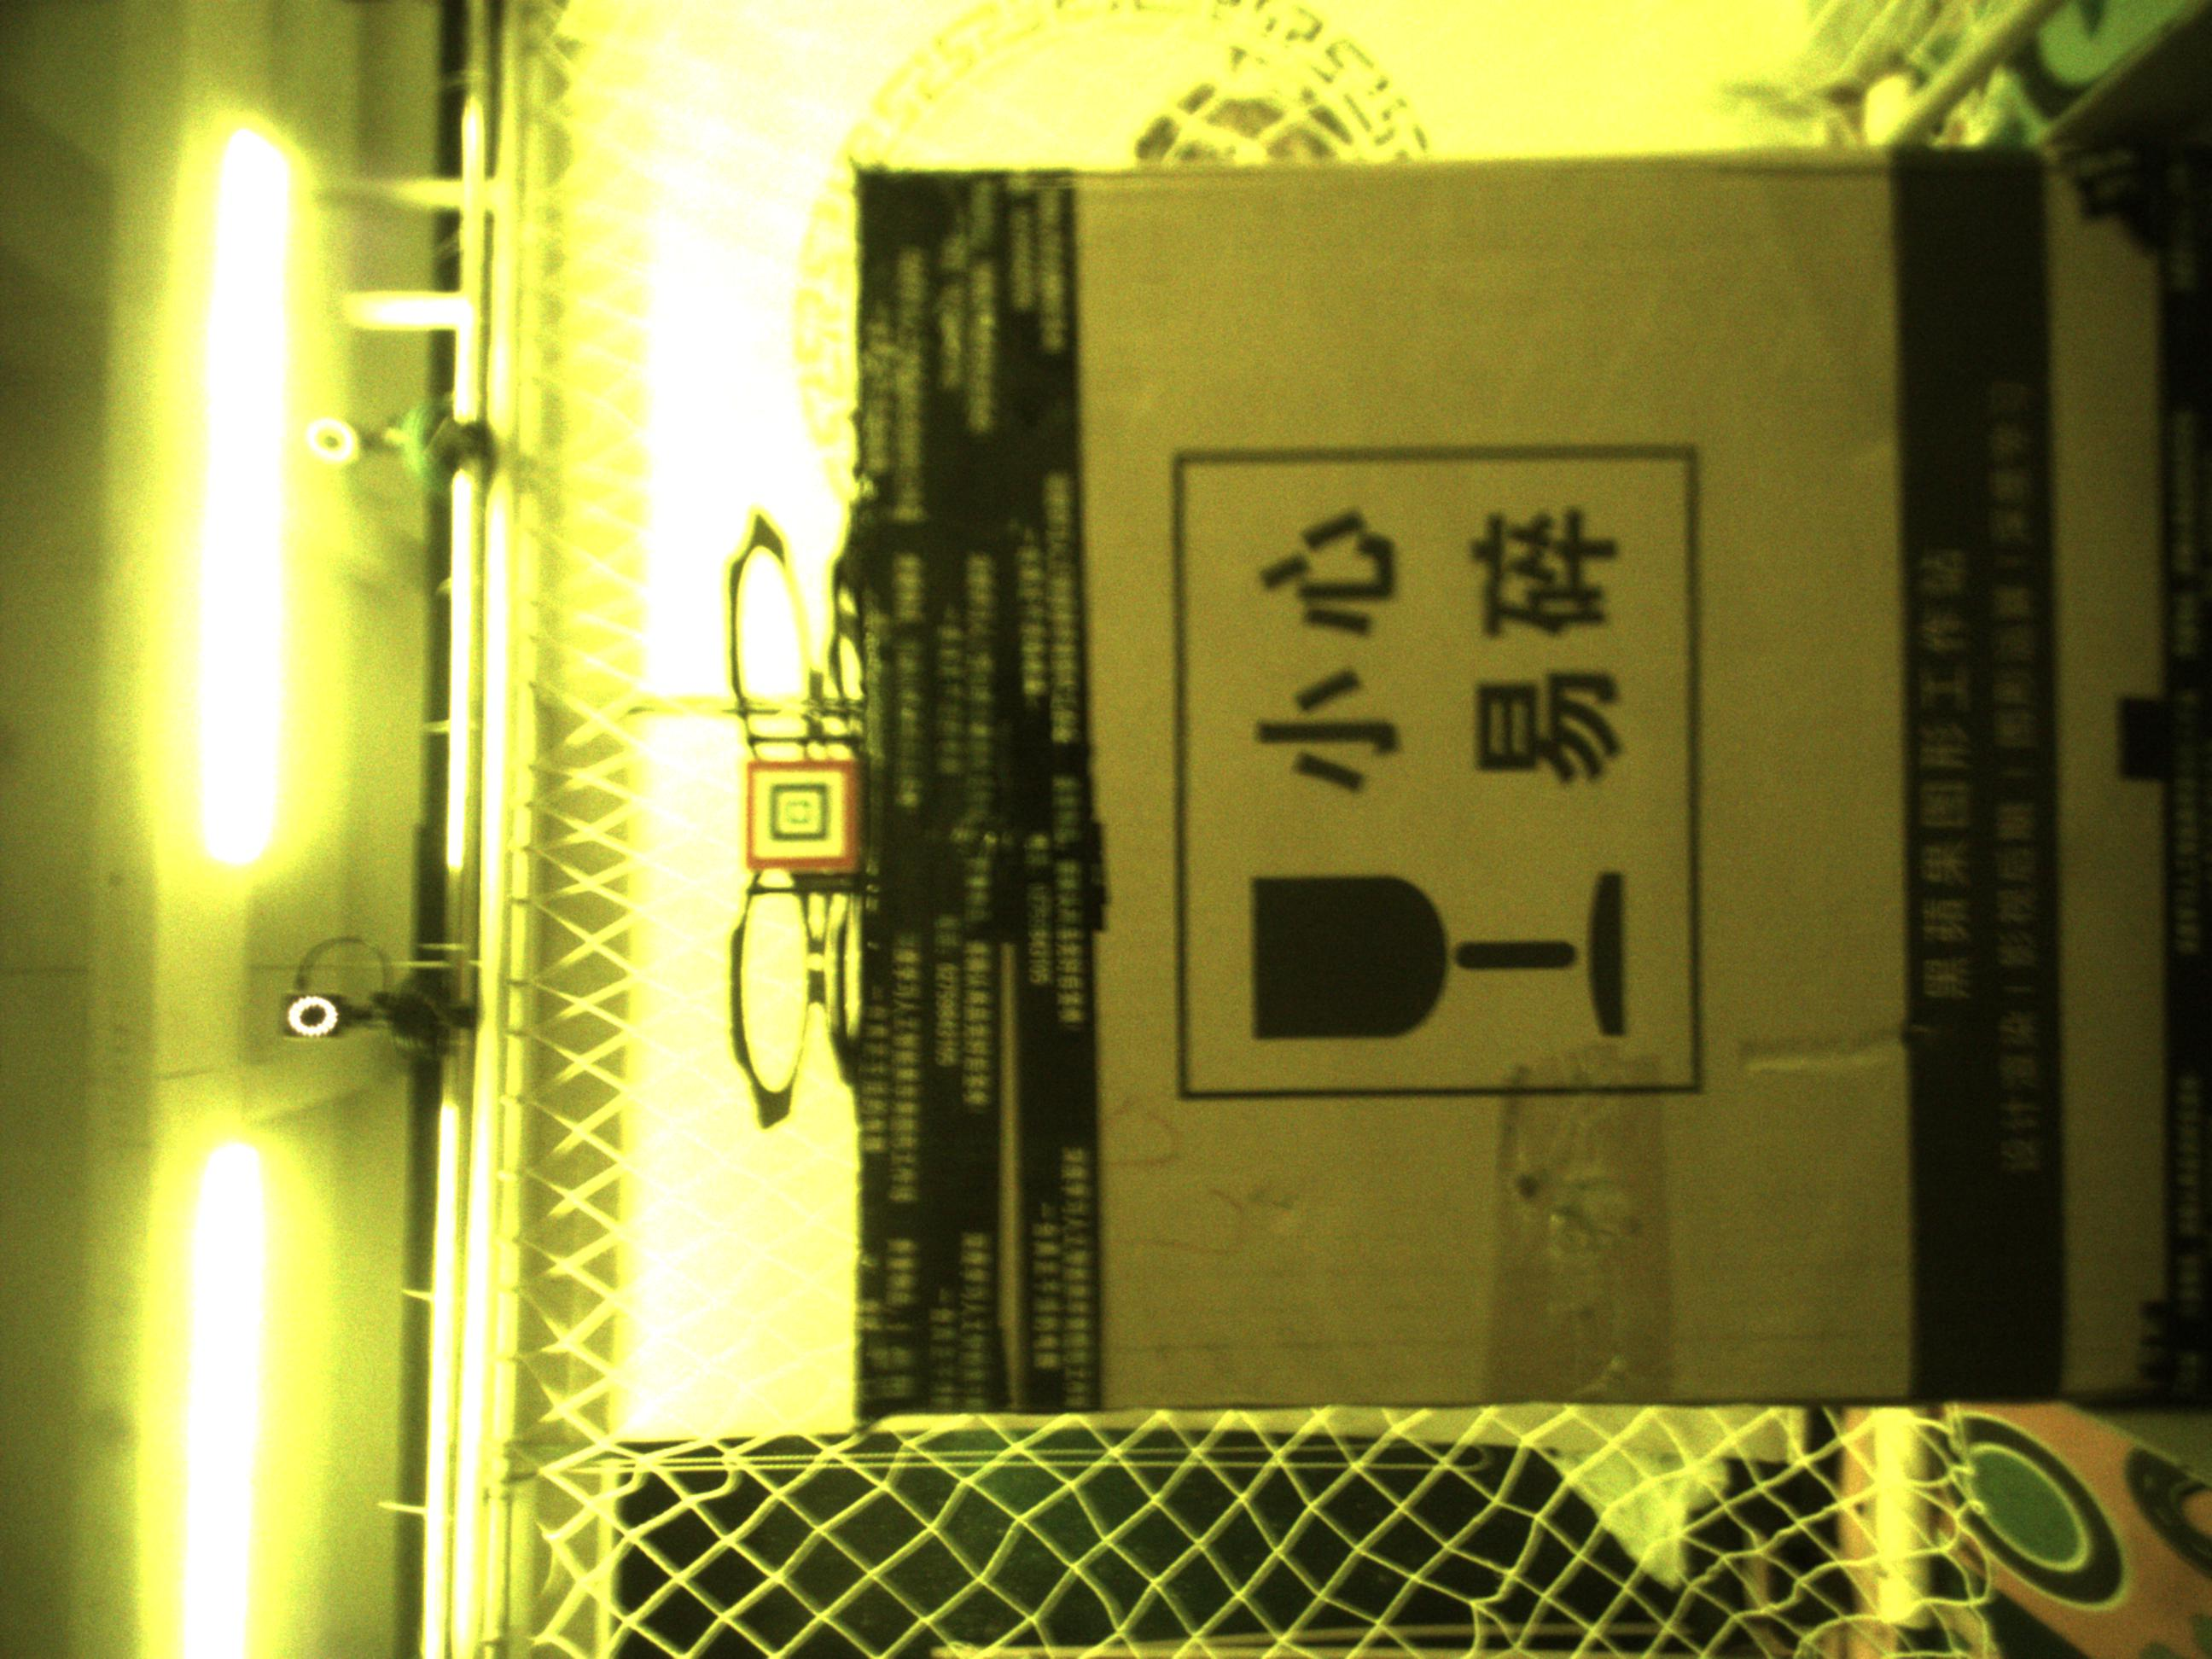outline: (747, 760, 859, 871)
